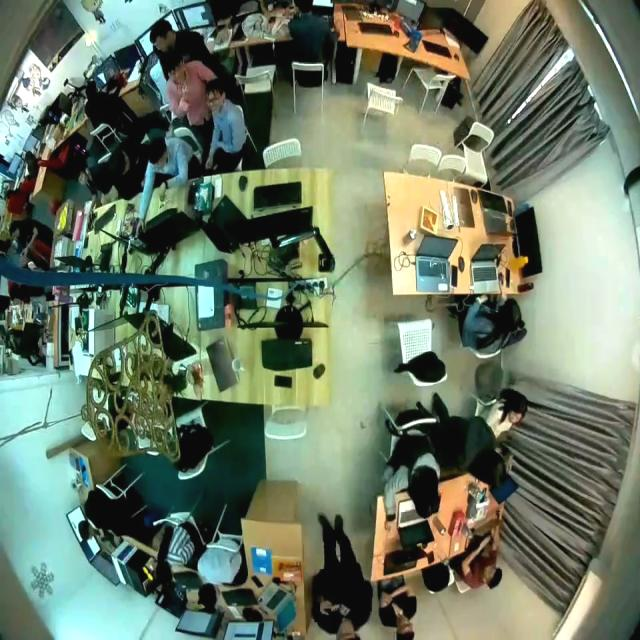staff-tag: (332, 605, 339, 612)
